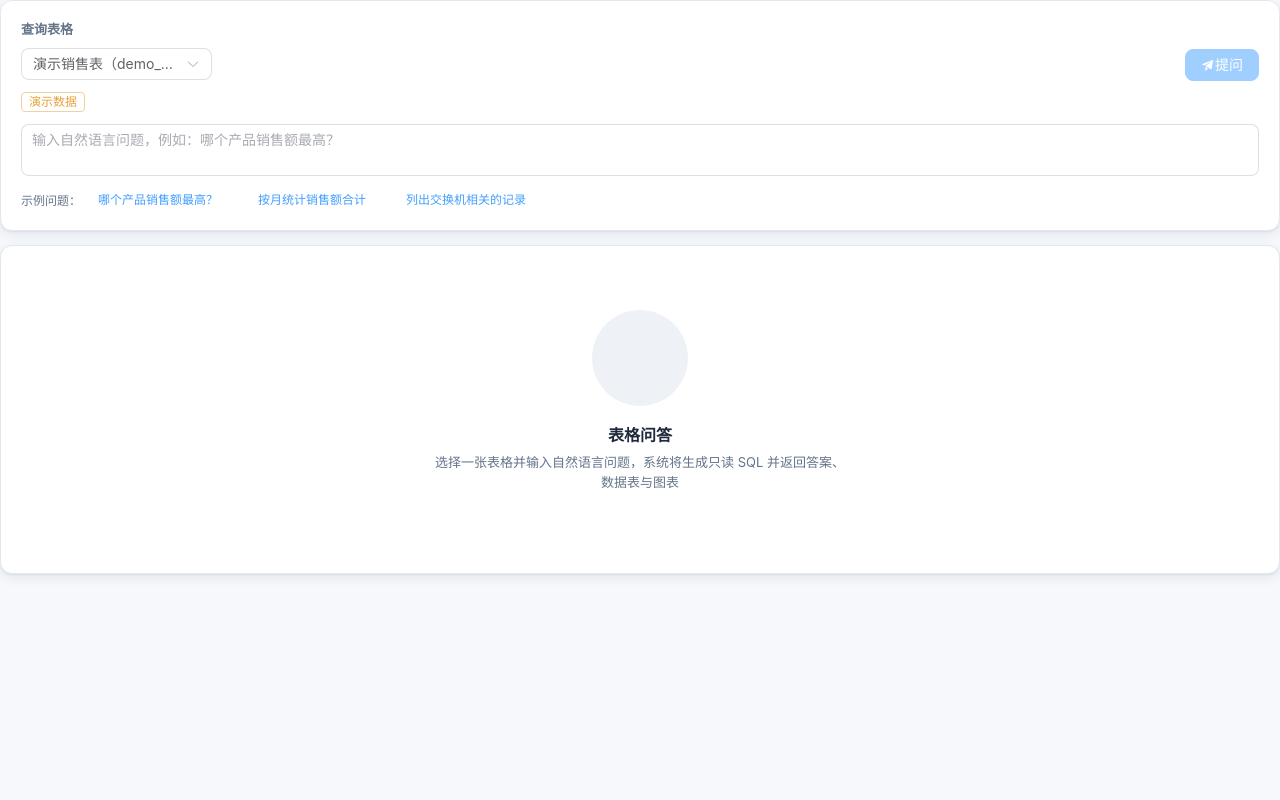
Test: TableQaTab 表格问答 › 渲染查询结果表格（llm 来源）
Type "列出销售额" into the text box with placeholder "输入自然语言问题，例如：哪个产品销售额最高？" at (640,150), box [21,124,1259,176]
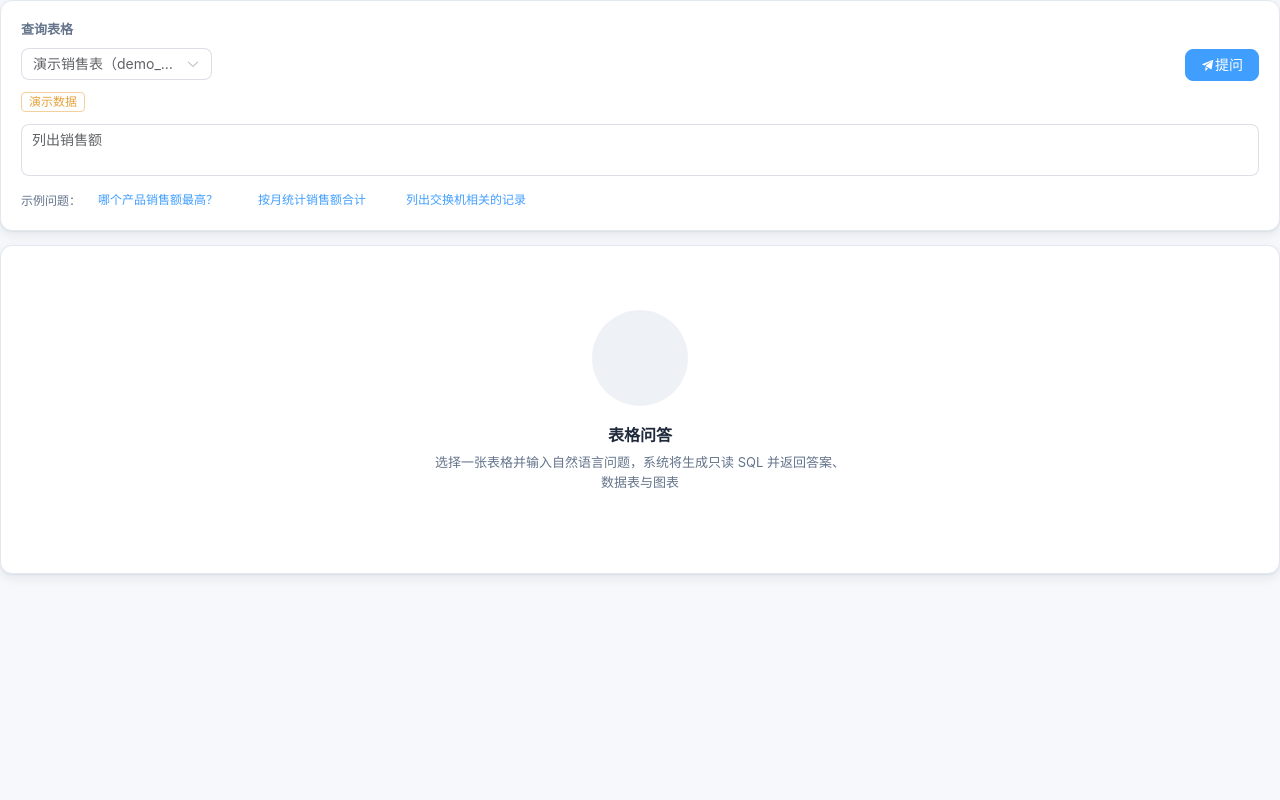
Click the button "提问" at (1222,65), box [1185,49,1259,81]
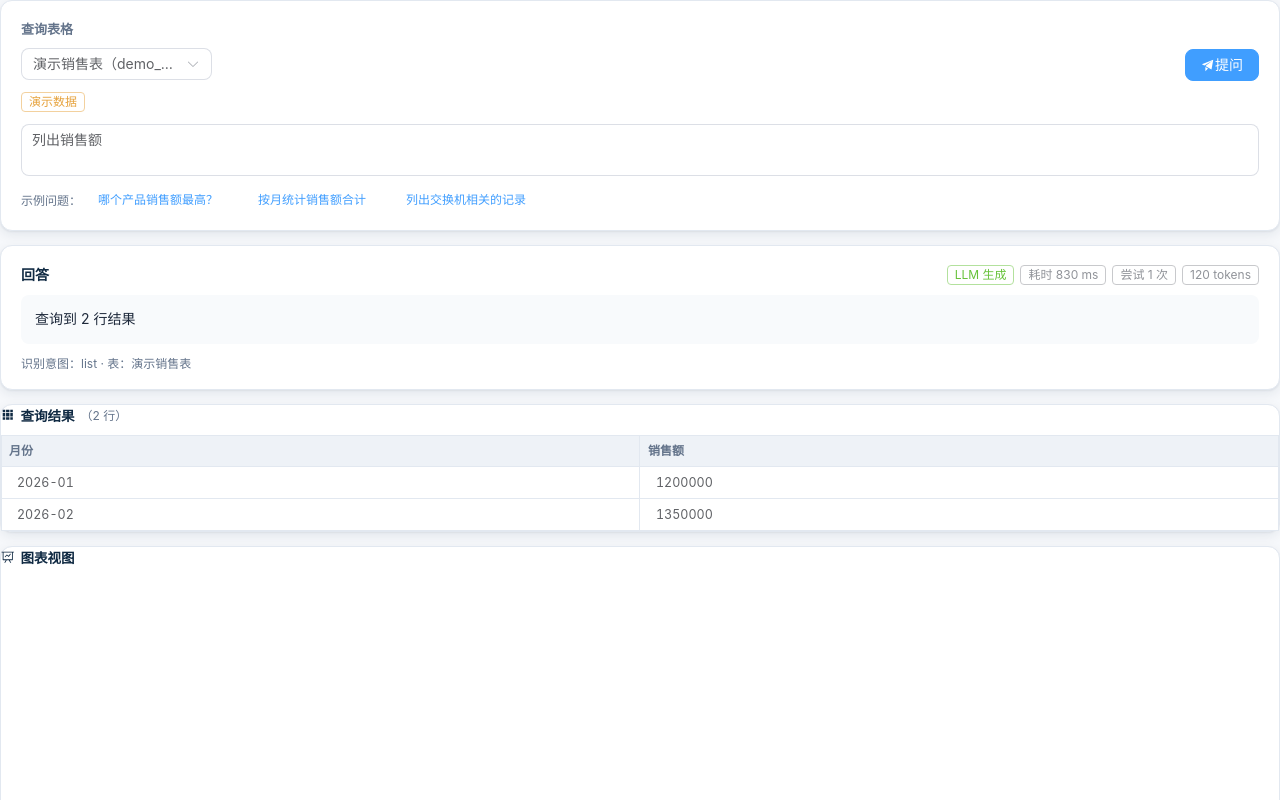
Now the text "查询到 2 行结果" is shown, box [21,295,1259,344]
Now the text "LLM 生成" is shown, box [955,269,1006,281]
Now the text "2026-01" is shown, box [17,475,74,490]
